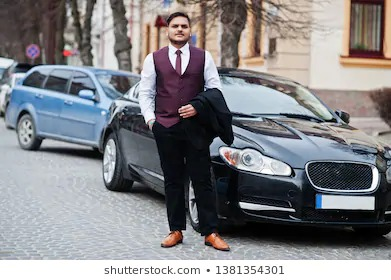F_dress pants: (154, 118, 220, 233)
F_shirt: (137, 40, 220, 123)
F_tie: (170, 48, 183, 74)
